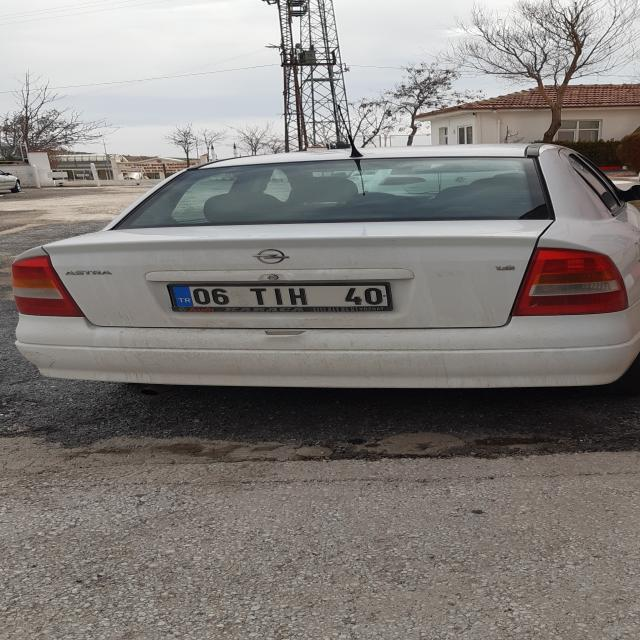plate: (170, 284, 388, 307)
